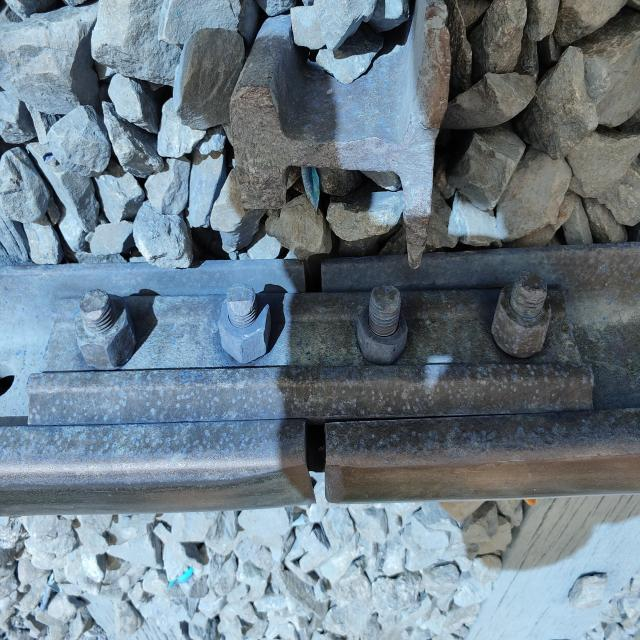Good Joint: (25, 271, 601, 420)
